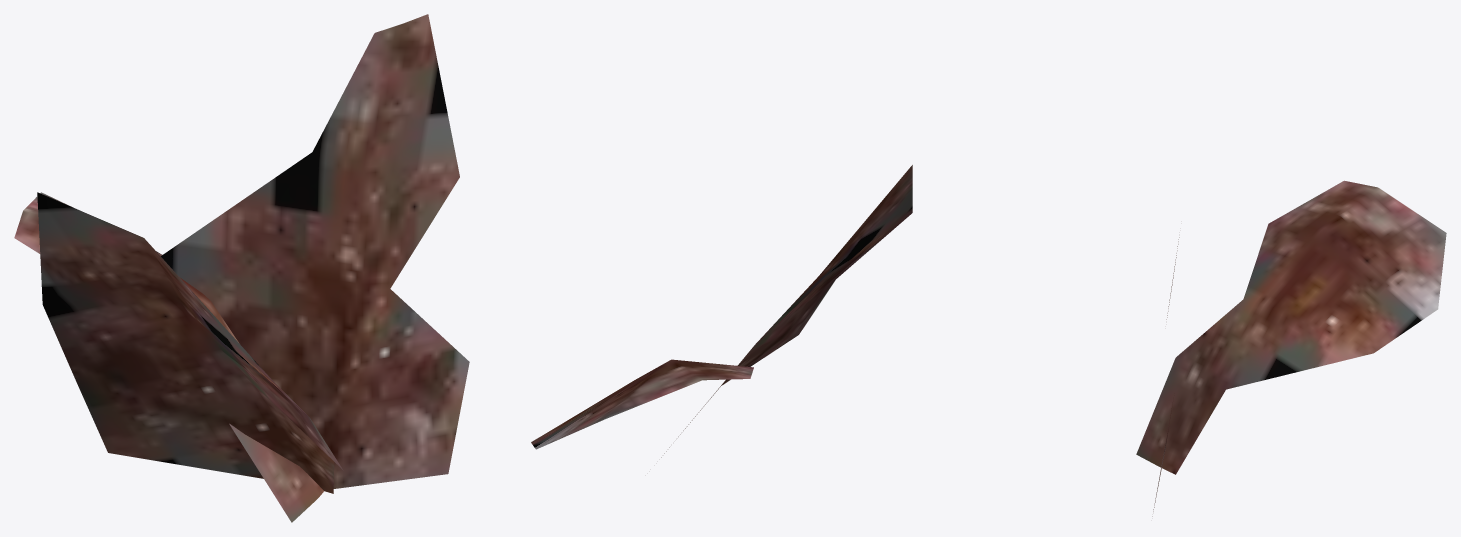
Rendered from Seaweed_F2-transformed.glb.
The picture shows the model from 3 angles, left to right: view 1: azimuth 30°, elevation 25°; view 2: azimuth 150°, elevation 25°; view 3: azimuth 270°, elevation 25°; orthographic projection. The views are drawn at different scales.
Parts seen in each view (by area): view 1: Seaweed_F2; view 2: Seaweed_F2; view 3: Seaweed_F2.
Boxes of the visible parts, box(x1,y1,x2,y2) form: Seaweed_F2: box(14, 14, 469, 522); Seaweed_F2: box(531, 165, 912, 457); Seaweed_F2: box(1136, 180, 1446, 516).
Size of the model in its own units: 0.2221 by 0.2176 by 0.2341.
Materials: 1 (1 with a texture image).
